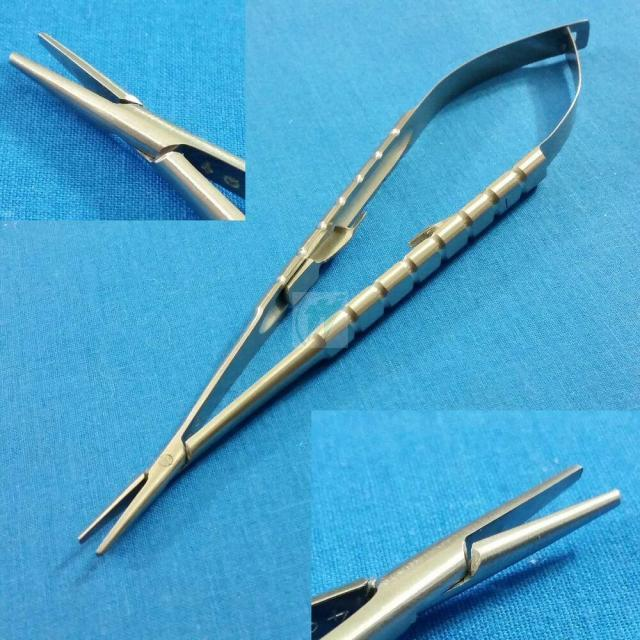Castroviejo: (74, 16, 596, 559), (312, 459, 624, 640), (5, 26, 246, 216)
